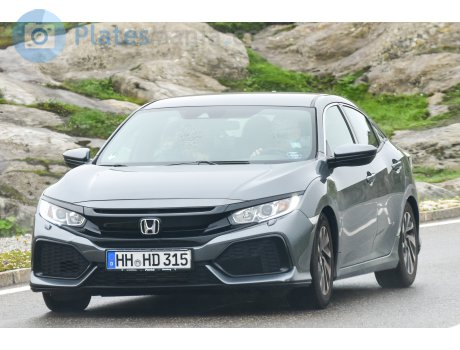License Plates: (113, 250, 193, 265)
